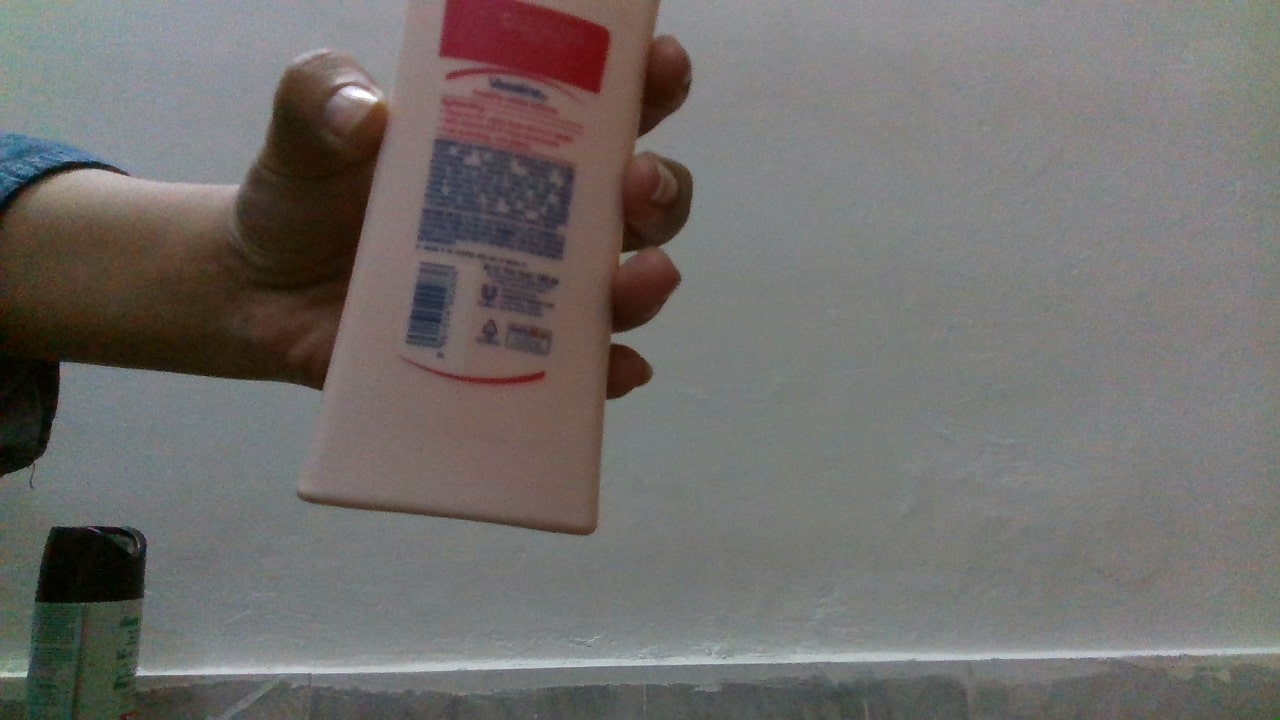Barcode: (401, 257, 461, 351)
